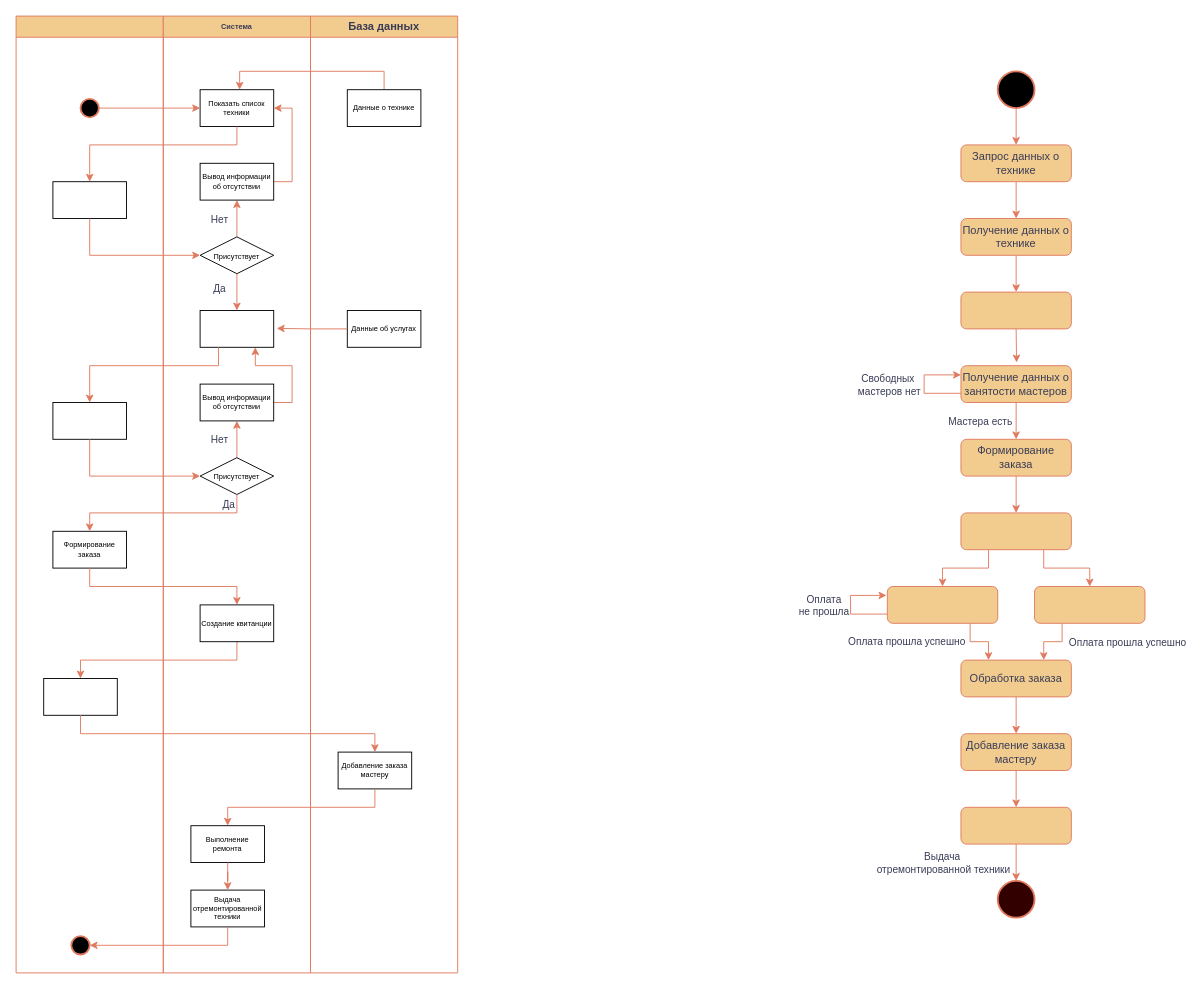
Image size: 1202x989. Some labels were removed from this diagram. The shapes that lost their labels are listed below. From the top down, each one's box as (x1, y1, x2, y2) in pixels, then its label:
(52, 181, 126, 218): Запрос необходимой техники
(199, 310, 274, 347): Показать оказываемые услуги
(960, 291, 1071, 329): Запрос данных о занятости мастеров
(52, 402, 126, 439): Запрос о свободном мастере
(15, 15, 163, 973): Администратор
(960, 512, 1071, 550): Выбор способа оплаты
(886, 586, 998, 623): Оплата картой
(1034, 586, 1145, 623): Оплата наличными
(43, 678, 117, 715): Оплата
(960, 806, 1071, 844): Выполнение заказа
